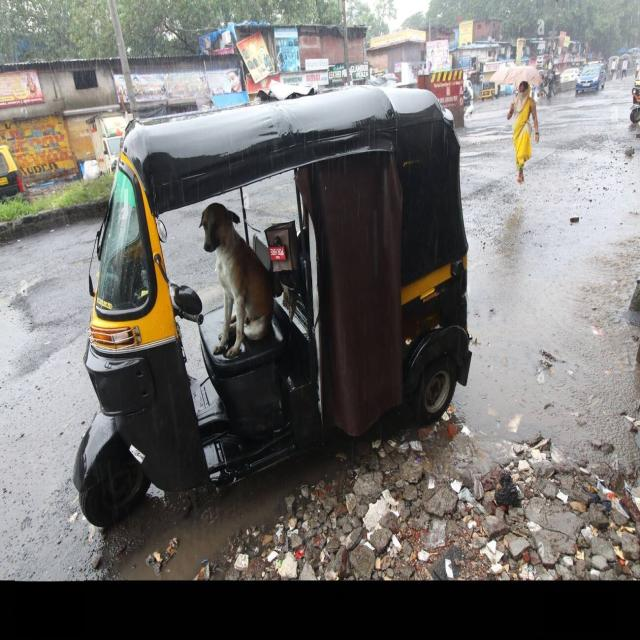autorickshaw: (74, 87, 470, 526)
